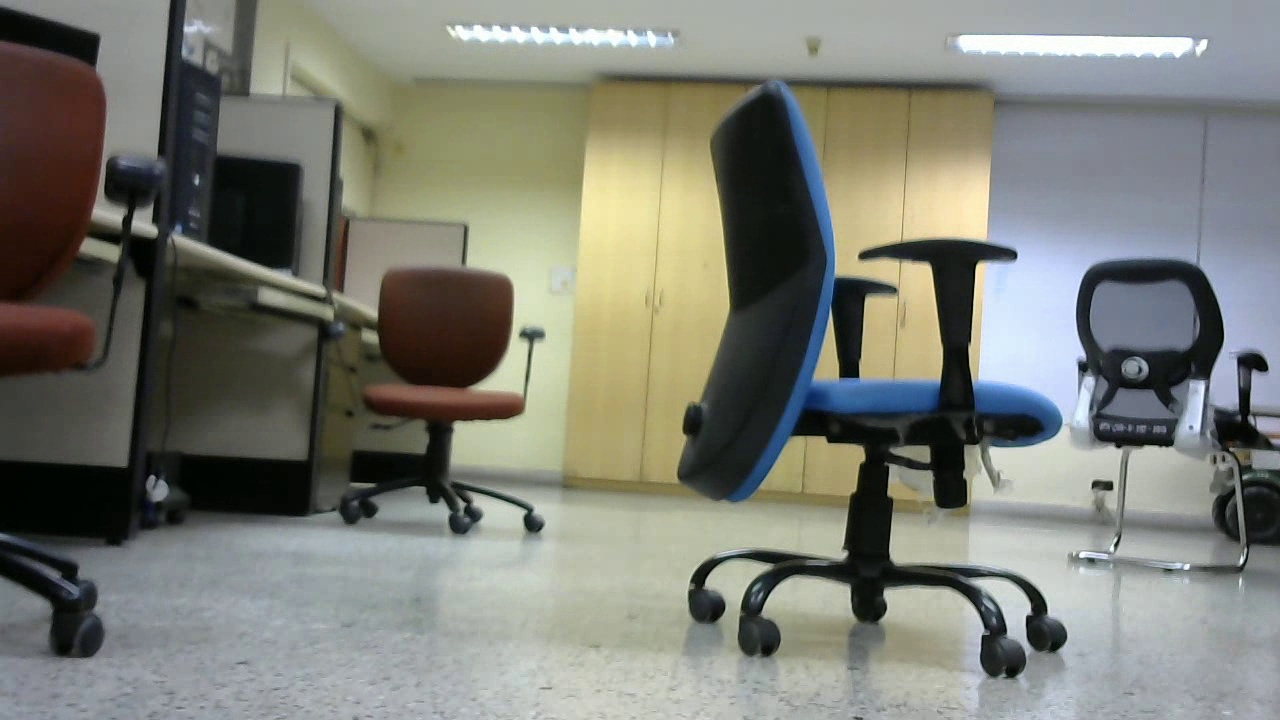chair: (675, 69, 1084, 685), (1053, 252, 1251, 580), (334, 253, 557, 537)
